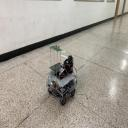cart: (45, 66, 78, 106)
